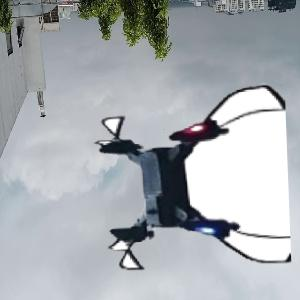drone: (93, 86, 290, 283)
